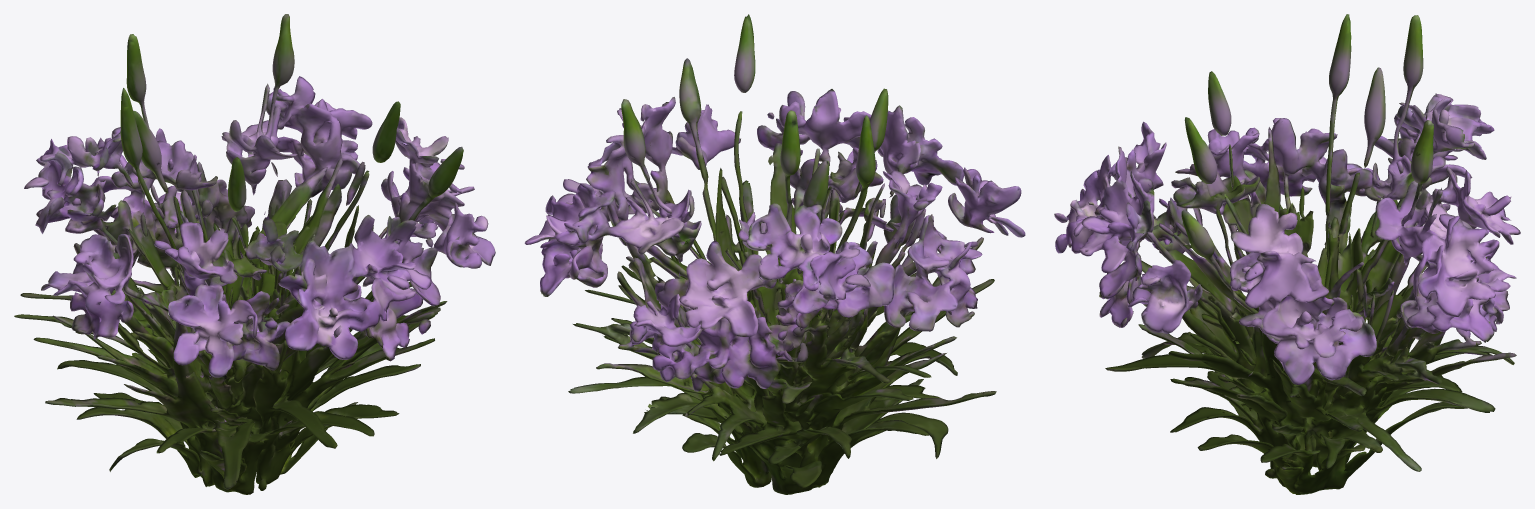
Rendered from flower4.fbx.
3 renders of one model, left to right at view 1: azimuth 30°, elevation 25°; view 2: azimuth 150°, elevation 25°; view 3: azimuth 270°, elevation 25°, orthographic. The views are drawn at different scales.
Parts seen in each view (by area): view 1: Mesh_0.005g; view 2: Mesh_0.005g; view 3: Mesh_0.005g.
Boxes of the visible parts, x1=… form: Mesh_0.005g: x1=14, y1=14, x2=495, y2=494; Mesh_0.005g: x1=524, y1=14, x2=1025, y2=494; Mesh_0.005g: x1=1054, y1=14, x2=1520, y2=494.
Size of the model in its own units: 192 by 179 by 174.
Materials: 1 (1 with a texture image).
